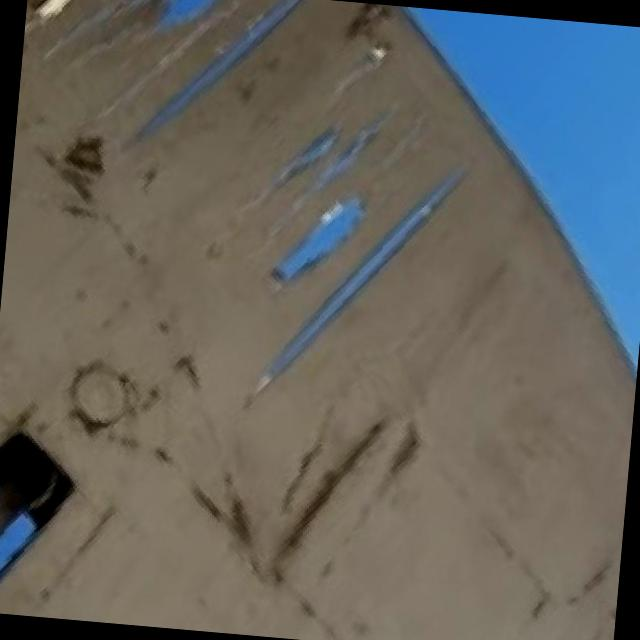crack: (0, 0, 496, 431)
